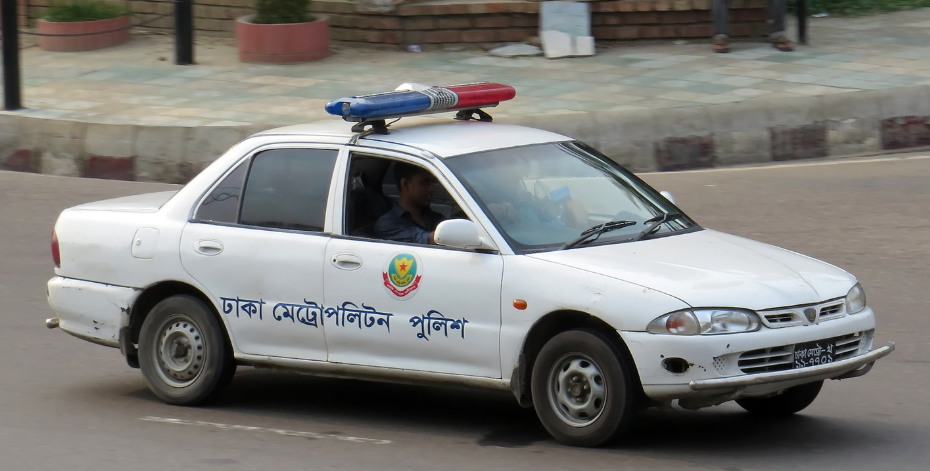Police cars: (48, 80, 884, 440)
